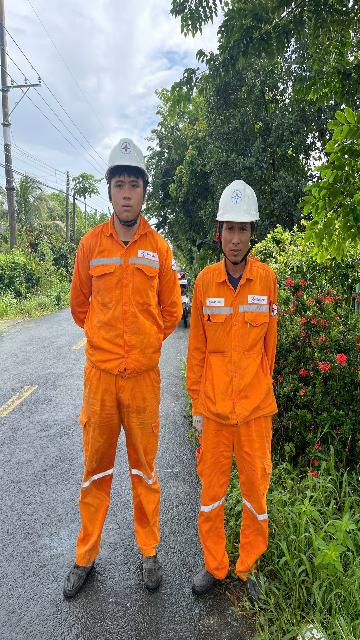helmet: (212, 172, 264, 232), (103, 132, 156, 187)
shoes: (47, 542, 106, 598), (188, 543, 235, 610), (139, 529, 165, 595)
